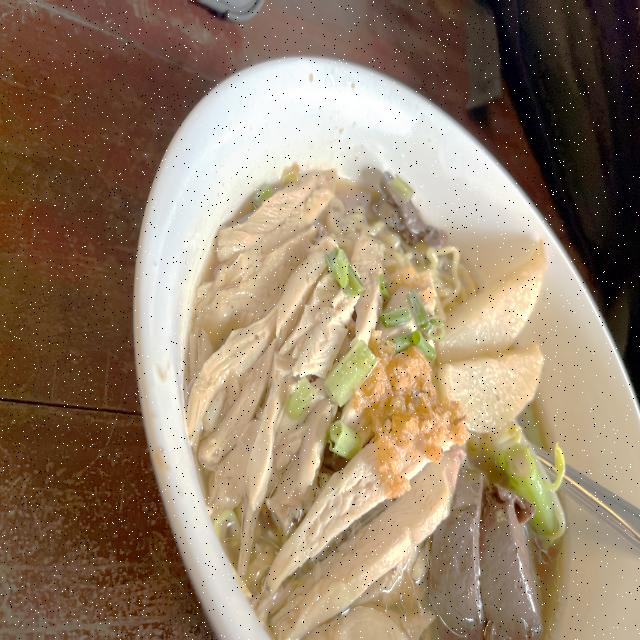boiled_chicken_blood_jelly: (450, 470, 536, 625)
chicken_shredded: (209, 172, 431, 628)
daikon_radish: (444, 240, 546, 428)
noodle: (169, 66, 637, 640)
